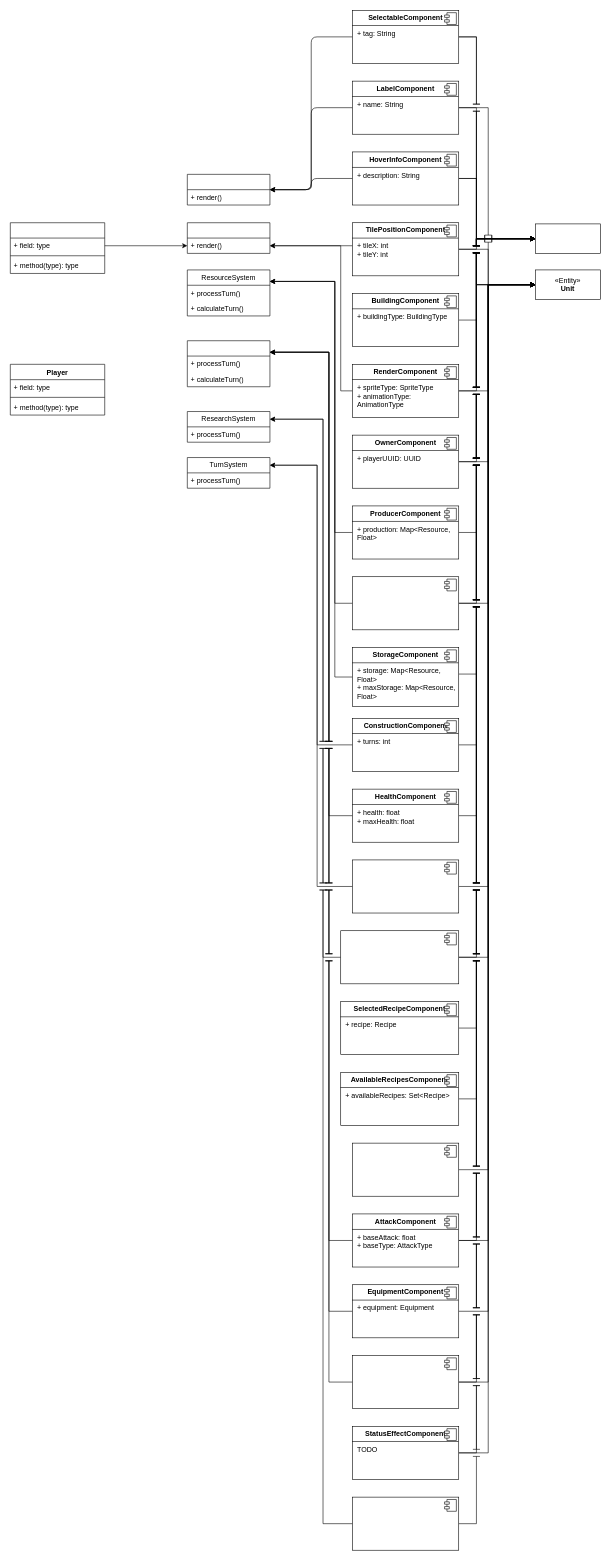
This 611x1561 diagram has some shape labels left out. Each missing label, with the box of its shape:
CombatSystem: (187, 340, 270, 387)
ConsumerComponent + consumer: Map<Resource, Float>: (352, 576, 459, 630)
DefenseComponent + baseDefense: float + typeMultipliers: Map<AttackType, Float>: (352, 1355, 459, 1409)
MovementComponent + movesPerTurn: float + movesRemaining: float: (352, 859, 459, 913)
RenderSystem: (187, 222, 270, 253)
ResearchRequirementComponent + technologiesRequired: Set<Technology>: (340, 930, 459, 984)
ScienceComponent + sciencePerTurn: float: (352, 1497, 459, 1550)
UISystem: (187, 174, 270, 205)
UnitComponent + unitType: UnitType + equipmentSlots: int: (352, 1143, 459, 1196)
World: (10, 222, 105, 273)
«Entity» Building: (535, 223, 600, 253)
